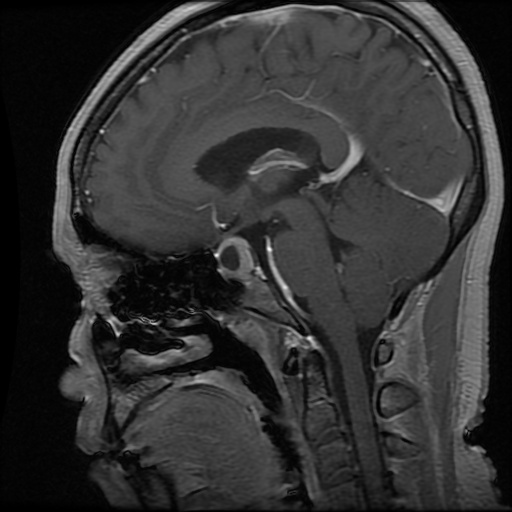pituitary: (215, 237, 253, 279)
